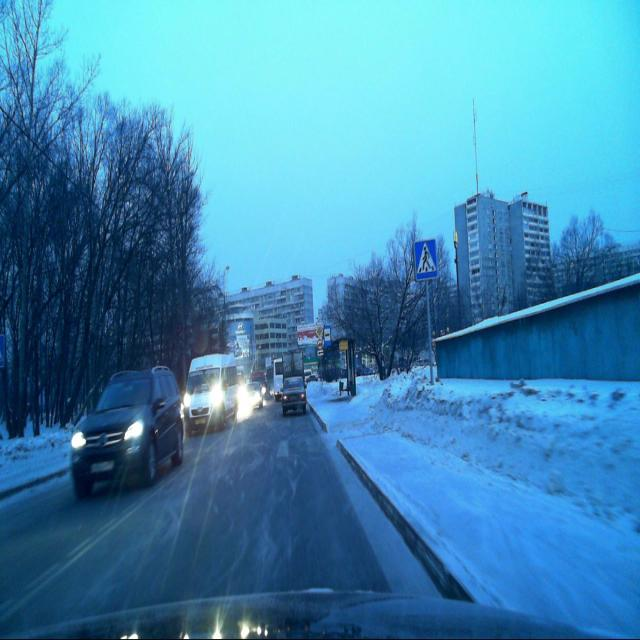object: (426, 284, 434, 385)
road sign: (414, 241, 438, 280)
